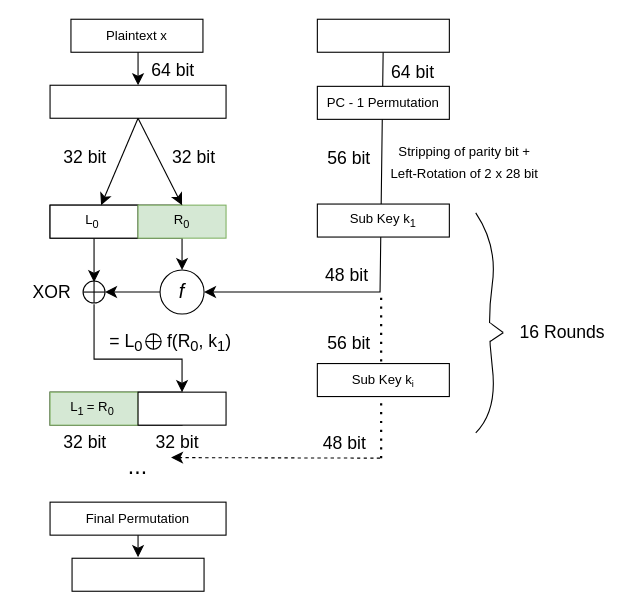
Some shapes in this 625 by 611 pixel diagram are drawn without their labels. The centre of each missing label's shape, as x and y in pixels:
"Ciphertext y" goes at point (137, 574).
"Initial Permutation" goes at point (137, 101).
"Original Key k" goes at point (382, 35).
"R 1" goes at point (181, 408).
